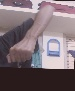hand: (5, 34, 38, 64)
